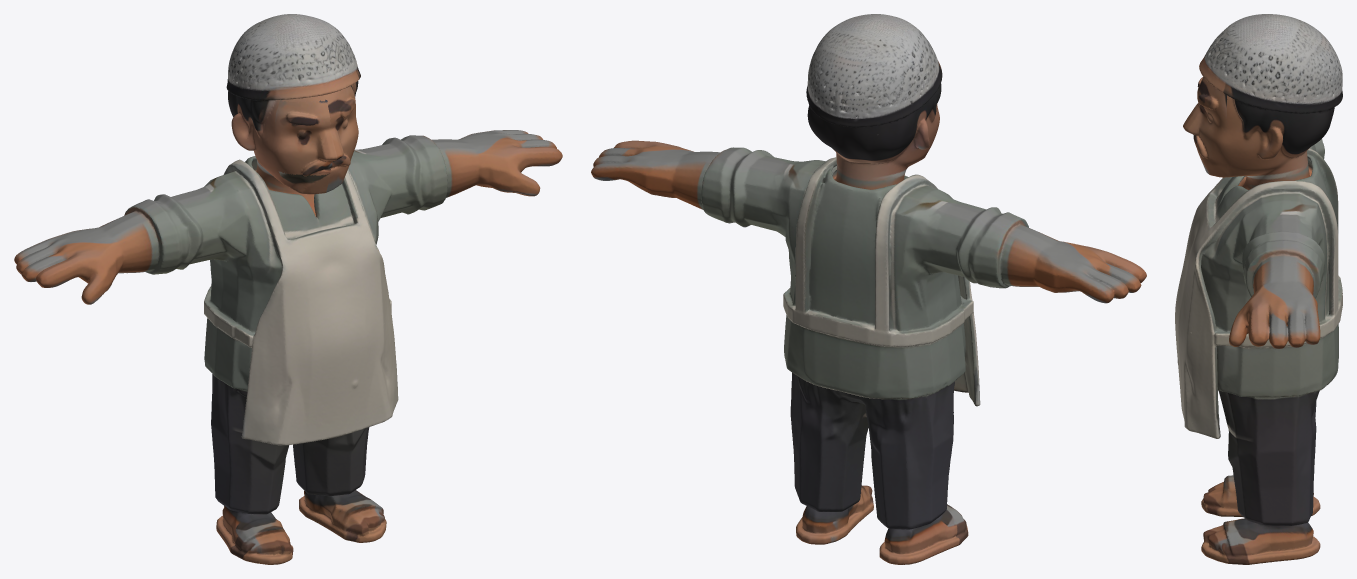
File: chef_clean.glb
3 views of the same model, side by side, from view 1: azimuth 30°, elevation 25°; view 2: azimuth 150°, elevation 25°; view 3: azimuth 270°, elevation 25° (orthographic).
Visible parts, largest first — view 1: tripo_node_06c21c73-7f7b-4a05-8214-a309ac9d3594; view 2: tripo_node_06c21c73-7f7b-4a05-8214-a309ac9d3594; view 3: tripo_node_06c21c73-7f7b-4a05-8214-a309ac9d3594.
Part boxes in pixels (<box>): tripo_node_06c21c73-7f7b-4a05-8214-a309ac9d3594: <box>14,14,562,564</box>; tripo_node_06c21c73-7f7b-4a05-8214-a309ac9d3594: <box>591,14,1146,564</box>; tripo_node_06c21c73-7f7b-4a05-8214-a309ac9d3594: <box>1175,14,1342,564</box>.
Bounding box in the file's own units: 1.73 × 1.58 × 0.4712.
Materials: 1 (1 with a texture image).
